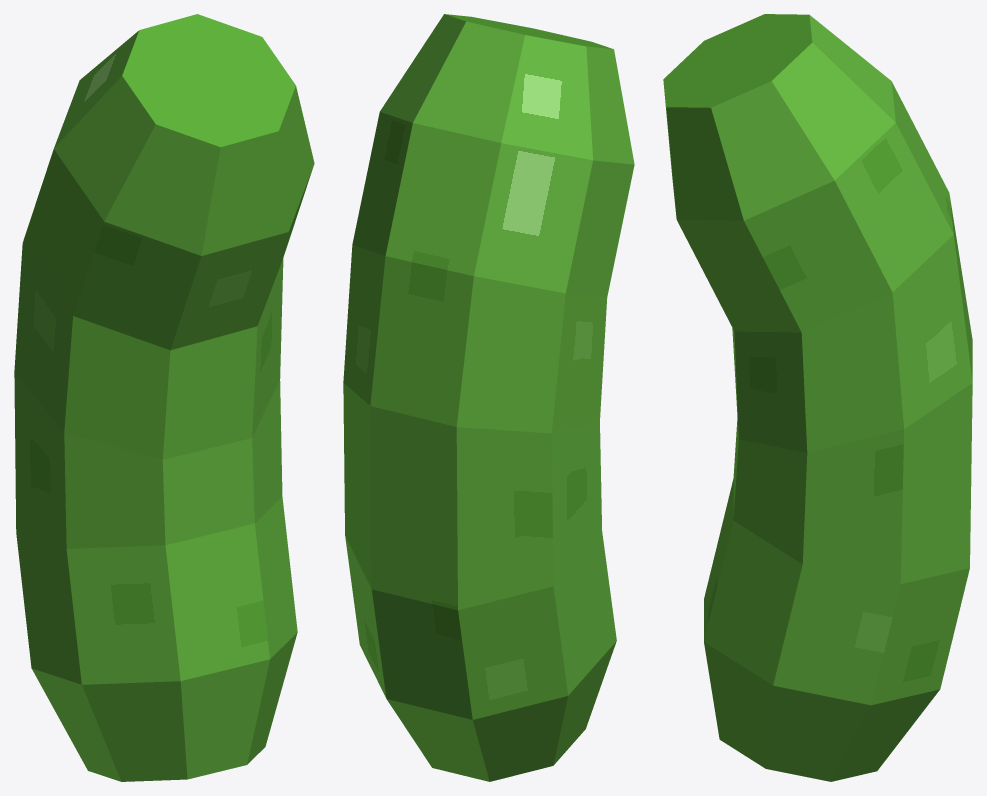
The model's file is Pickle Model.fbx.
3 renders of one model, left to right at view 1: azimuth 30°, elevation 25°; view 2: azimuth 150°, elevation 25°; view 3: azimuth 270°, elevation 25°, orthographic. The views are drawn at different scales.
Visible parts, largest first — view 1: cylinder; view 2: cylinder; view 3: cylinder.
Boxes of the visible parts, <box> form: cylinder: <box>14,14,314,781</box>; cylinder: <box>343,14,634,781</box>; cylinder: <box>663,14,972,781</box>.
Size of the model in its own units: 19.18 by 62.18 by 23.95.
1 material, 1 textured.
